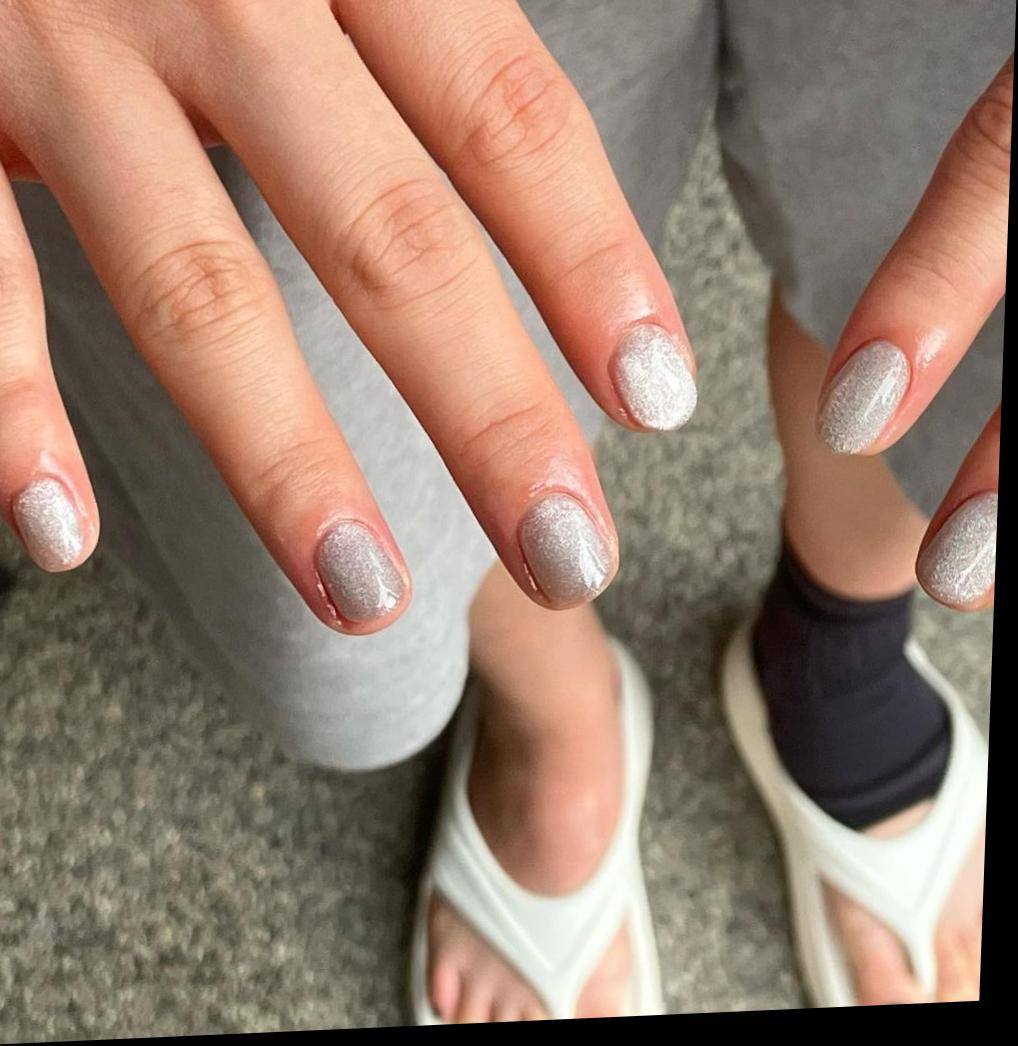nail: (514, 486, 615, 610), (813, 335, 912, 458), (309, 514, 409, 631), (604, 315, 701, 435), (912, 488, 998, 613), (7, 472, 88, 575)
